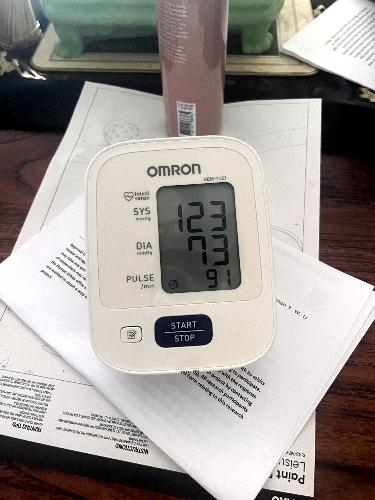bpm: (152, 179, 243, 297)
